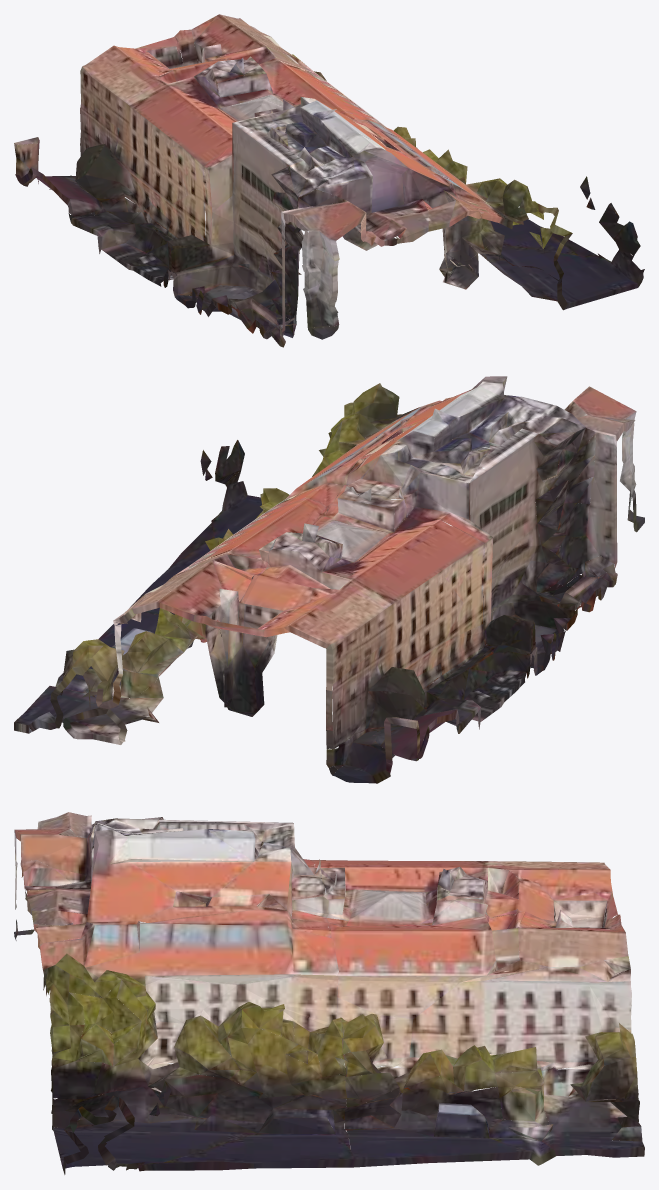
3 views of the same model, one above another, from view 1: azimuth 30°, elevation 25°; view 2: azimuth 150°, elevation 25°; view 3: azimuth 270°, elevation 25° (orthographic). The views are drawn at different scales.
Parts seen in each view (by area): view 1: Mesh_0; view 2: Mesh_0; view 3: Mesh_0.
Boxes of the visible parts, bbox=[...] form: Mesh_0: bbox=[14, 14, 644, 347]; Mesh_0: bbox=[14, 376, 644, 783]; Mesh_0: bbox=[14, 812, 644, 1174].
Size of the model in its own units: 67.45 by 32.4 by 82.51.
Materials: 2 (2 with a texture image).
